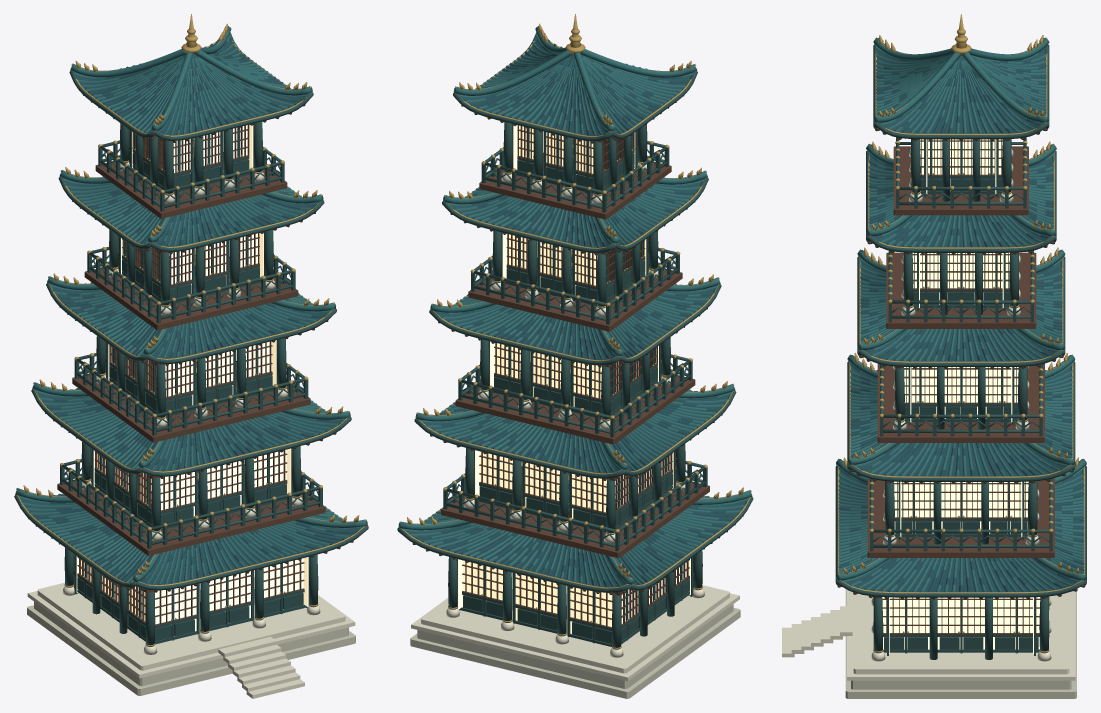
File: pagoda.glb
3 renders of one model, left to right at view 1: azimuth 30°, elevation 25°; view 2: azimuth 150°, elevation 25°; view 3: azimuth 270°, elevation 25°, orthographic. The views are drawn at different scales.
Parts seen in each view (by area): view 1: Pagoda_Lacquer, Pagoda_TileJade, Pagoda_TileShade, Pagoda_Cedar, Pagoda_StoneCarving, Pagoda_RicePaper, Pagoda_AgedBronze, Pagoda_Limestone; view 2: Pagoda_Lacquer, Pagoda_TileJade, Pagoda_TileShade, Pagoda_Cedar, Pagoda_StoneCarving, Pagoda_RicePaper, Pagoda_AgedBronze, Pagoda_Limestone; view 3: Pagoda_TileJade, Pagoda_Lacquer, Pagoda_TileShade, Pagoda_Cedar, Pagoda_RicePaper, Pagoda_StoneCarving, Pagoda_AgedBronze, Pagoda_Limestone.
Boxes of the visible parts, x1,y1,x2,y2 form: Pagoda_Lacquer: (14,32,368,646); Pagoda_TileJade: (15,26,367,584); Pagoda_TileShade: (21,39,359,584); Pagoda_Cedar: (28,95,353,625); Pagoda_StoneCarving: (27,162,355,698); Pagoda_RicePaper: (76,124,308,636); Pagoda_AgedBronze: (16,14,366,646); Pagoda_Limestone: (27,601,355,695); Pagoda_Lacquer: (397,32,753,649); Pagoda_TileJade: (398,26,752,586); Pagoda_TileShade: (405,38,747,587); Pagoda_Cedar: (412,95,743,629); Pagoda_StoneCarving: (411,162,739,681); Pagoda_RicePaper: (458,125,690,633); Pagoda_AgedBronze: (399,14,751,649); Pagoda_Limestone: (410,604,740,698); Pagoda_TileJade: (836,38,1086,592); Pagoda_Lacquer: (835,44,1086,659); Pagoda_TileShade: (838,46,1084,592); Pagoda_Cedar: (837,128,1085,636); Pagoda_RicePaper: (882,139,1040,653); Pagoda_StoneCarving: (782,149,1075,680); Pagoda_AgedBronze: (837,14,1084,652); Pagoda_Limestone: (845,589,1076,698).
Size of the model in its own units: 10.66 by 26.65 by 11.68.
